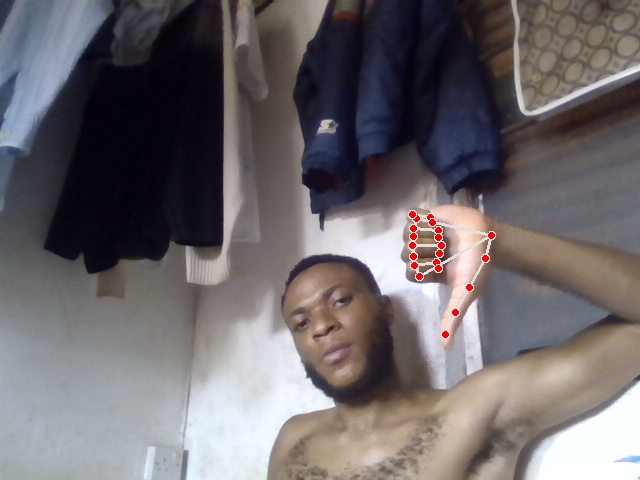thumbsdown: (401, 204, 499, 347)
